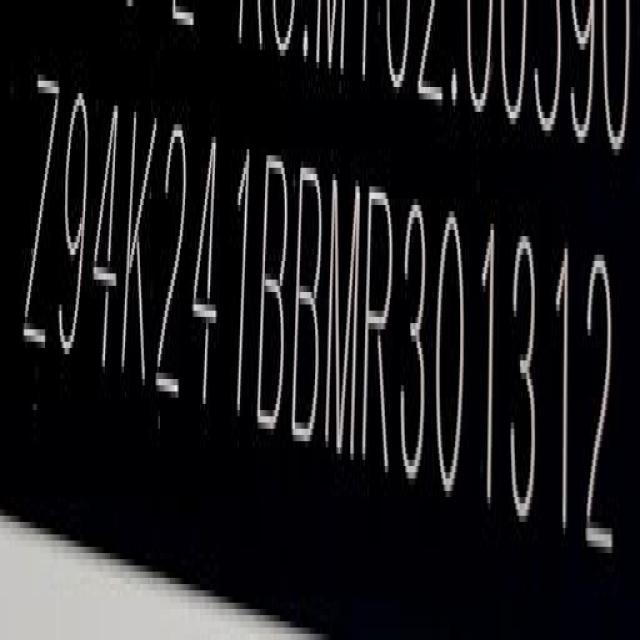0: (435, 212, 467, 498)
1: (231, 142, 252, 426), (479, 221, 498, 516), (555, 244, 573, 544)
2: (588, 252, 620, 559), (158, 124, 188, 405)
3: (511, 228, 541, 532), (401, 203, 432, 489)
4: (93, 94, 122, 380), (193, 134, 222, 417)
9: (56, 82, 88, 369)
B: (257, 147, 290, 437), (296, 160, 325, 452)
K: (125, 104, 158, 393)
M: (325, 160, 361, 463)
R: (366, 184, 397, 476)
Z: (20, 69, 59, 360)
